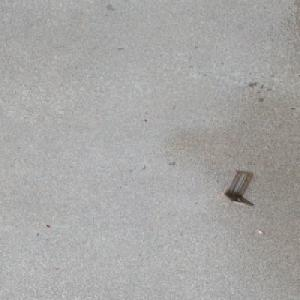MetalPart: (223, 170, 255, 206)
